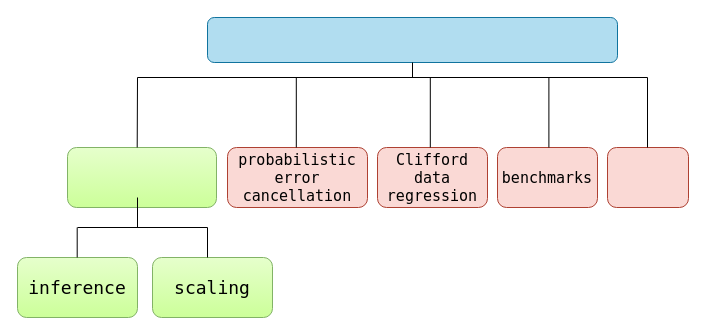
Some shapes in this 706 by 335 pixel diagram are drawn without their labels. The shapes that lost their labels are listed below. From the top down, each one's centre as x and y in pixels, then its label:
At point (412, 39): "Mitiq".
At point (141, 177): "zero-noise extrapolation".
At point (647, 177): "interface".
